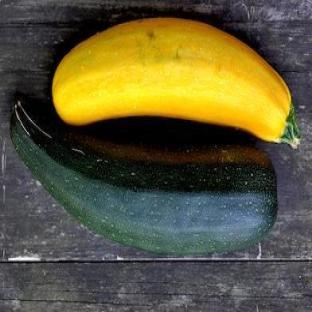Zucchini: (12, 102, 276, 254), (53, 18, 300, 147)
